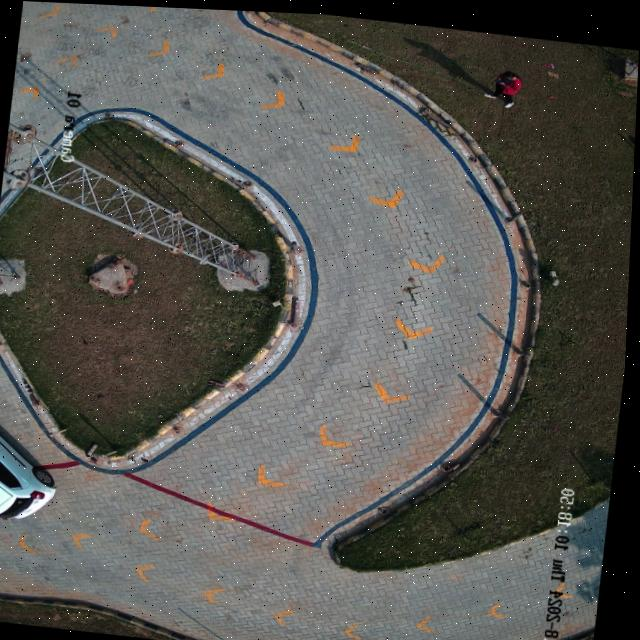car: (0, 435, 56, 518)
